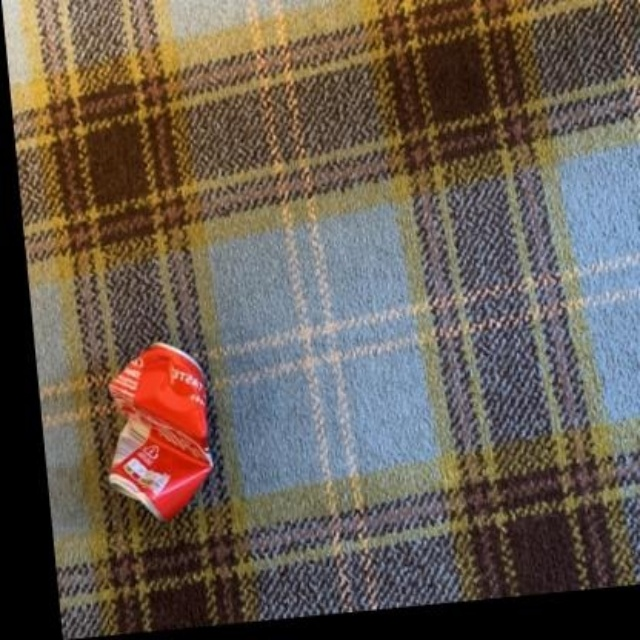trash: (109, 343, 211, 518)
